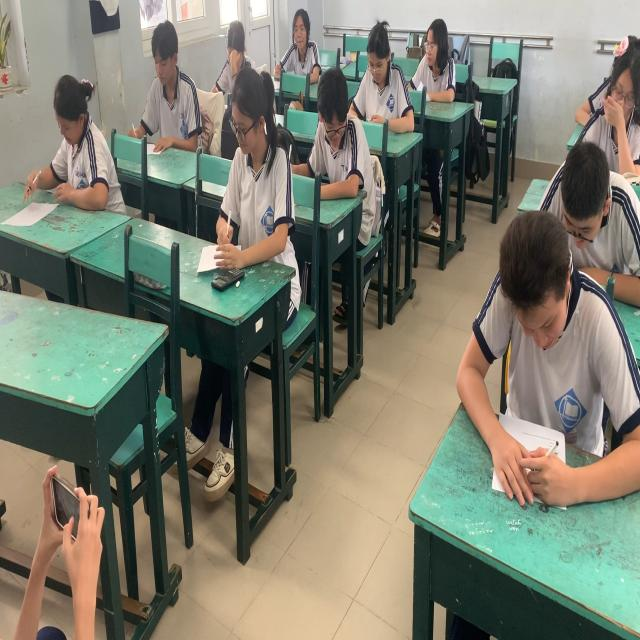cheating: (298, 54, 378, 226), (276, 0, 324, 85)
not_cheating: (450, 200, 631, 510), (212, 58, 296, 288), (546, 122, 636, 320), (39, 65, 120, 230), (133, 6, 204, 158), (346, 13, 417, 158), (586, 22, 640, 196), (408, 4, 462, 107), (212, 0, 254, 96)
